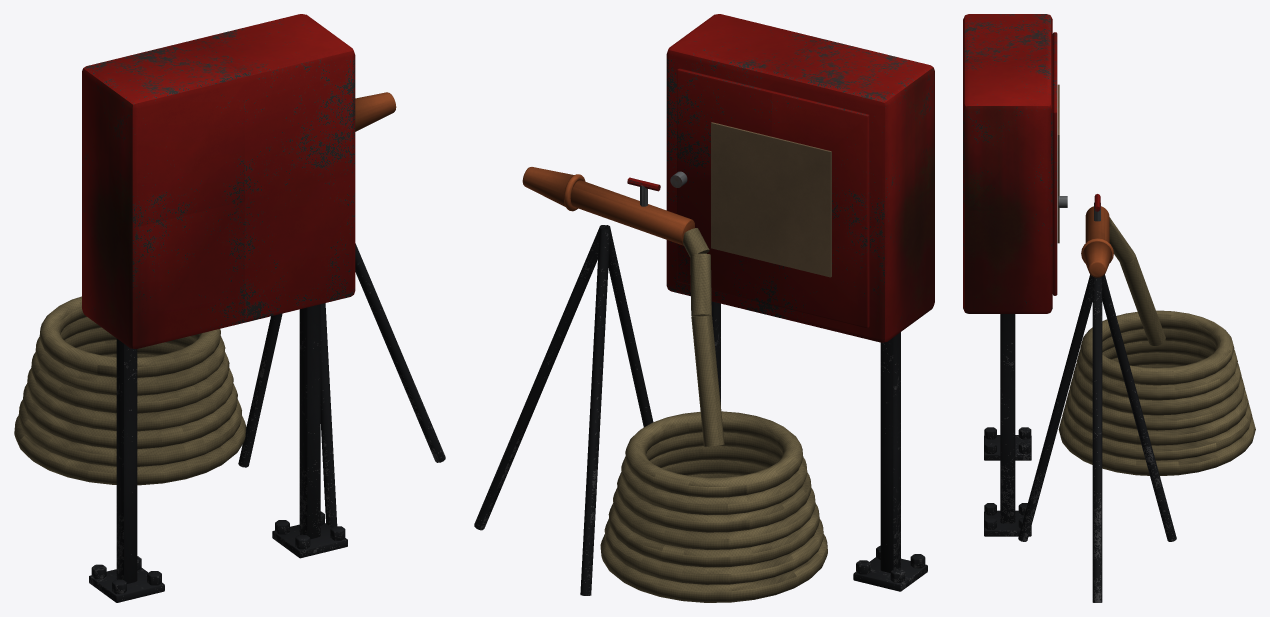
The model's file is hose.gltf.
The picture shows the model from 3 angles, left to right: view 1: azimuth 30°, elevation 25°; view 2: azimuth 150°, elevation 25°; view 3: azimuth 270°, elevation 25°; orthographic projection. The views are drawn at different scales.
Parts seen in each view (by area): view 1: hose; view 2: hose; view 3: hose.
Part boxes in pixels (bbox=[...]): hose: bbox=[14, 14, 445, 602]; hose: bbox=[474, 14, 934, 602]; hose: bbox=[963, 14, 1255, 602].
Size of the model in its own units: 1.29 by 1.6 by 0.98.
6 materials, 6 textured.
